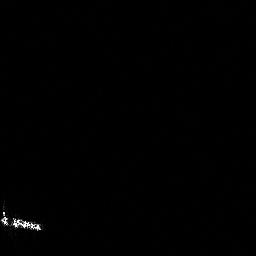ship: (1, 207, 48, 233)
